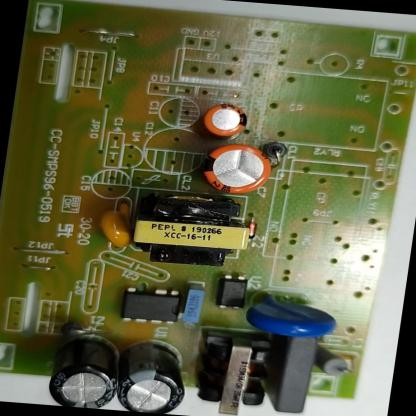Cap1: (195, 141, 278, 201)
Cap2: (195, 100, 252, 141)
Cap3: (109, 336, 196, 415)
Cap4: (42, 333, 126, 410)
MOSFET: (113, 282, 188, 330)
Mov: (232, 289, 345, 342)
Resistor: (304, 344, 357, 382)
Transformer: (119, 183, 259, 273), (184, 324, 284, 416)
